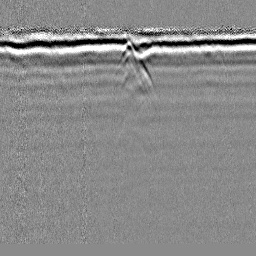cavity: (116, 40, 140, 68)
